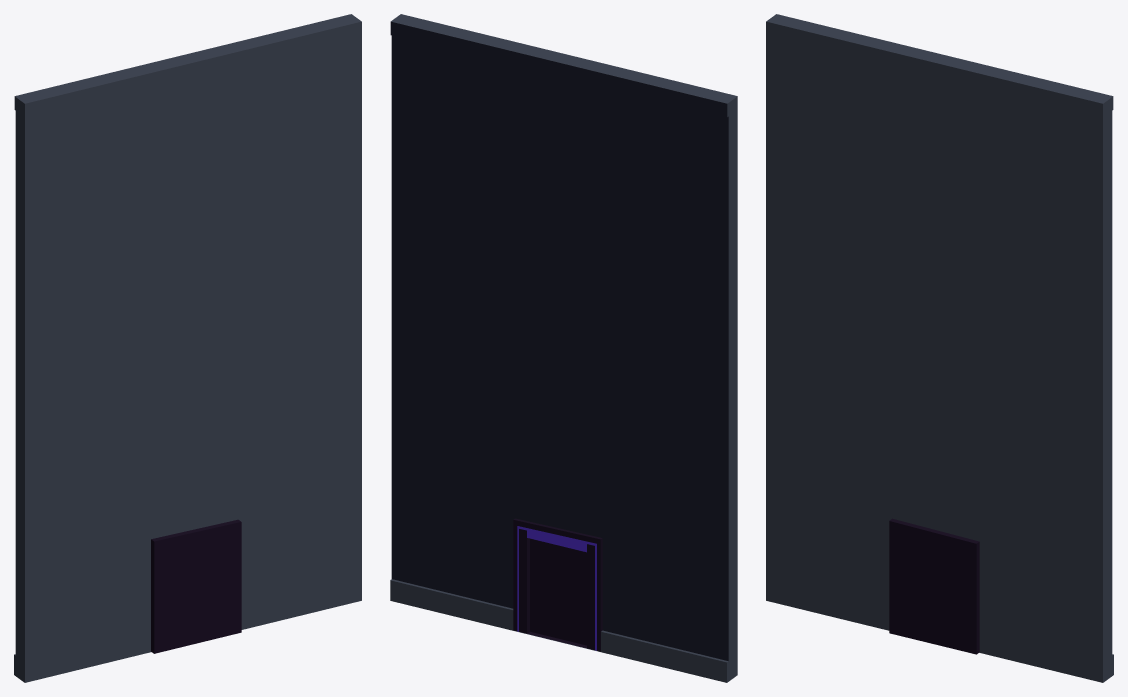
The model's file is Fader_TallDoorWall.fbx.
The picture shows the model from 3 angles, left to right: view 1: azimuth 30°, elevation 25°; view 2: azimuth 150°, elevation 25°; view 3: azimuth 330°, elevation 25°; orthographic projection.
Parts seen in each view (by area): view 1: Riven's Room.010, CubeHome.006; view 2: Riven's Room.010, CubeHome.006; view 3: Riven's Room.010, CubeHome.006.
Boxes of the visible parts, x1,y1,x2,y2 form: Riven's Room.010: [14, 14, 361, 682]; CubeHome.006: [151, 519, 241, 653]; Riven's Room.010: [390, 14, 737, 682]; CubeHome.006: [513, 518, 602, 651]; Riven's Room.010: [766, 14, 1113, 682]; CubeHome.006: [889, 518, 979, 654].
Bounding box in the file's own units: 490 × 804 × 35.25.
